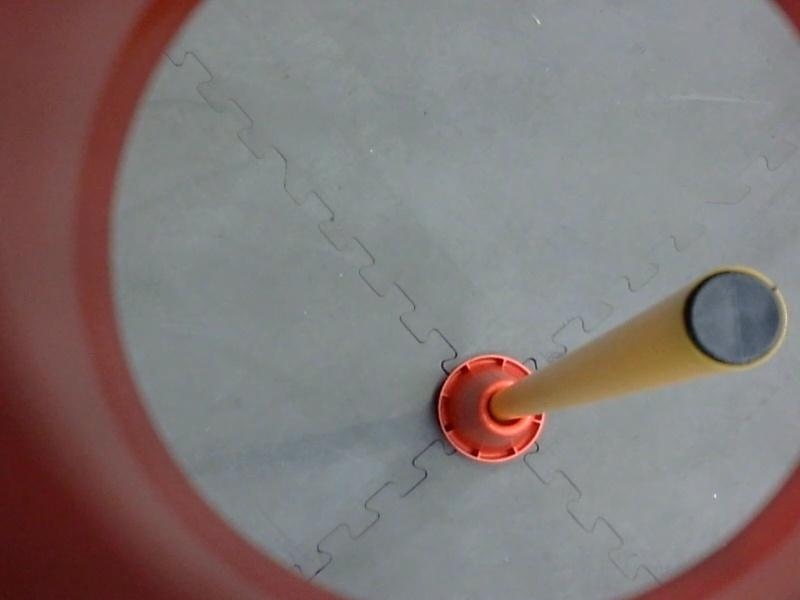tip: (678, 251, 799, 383)
